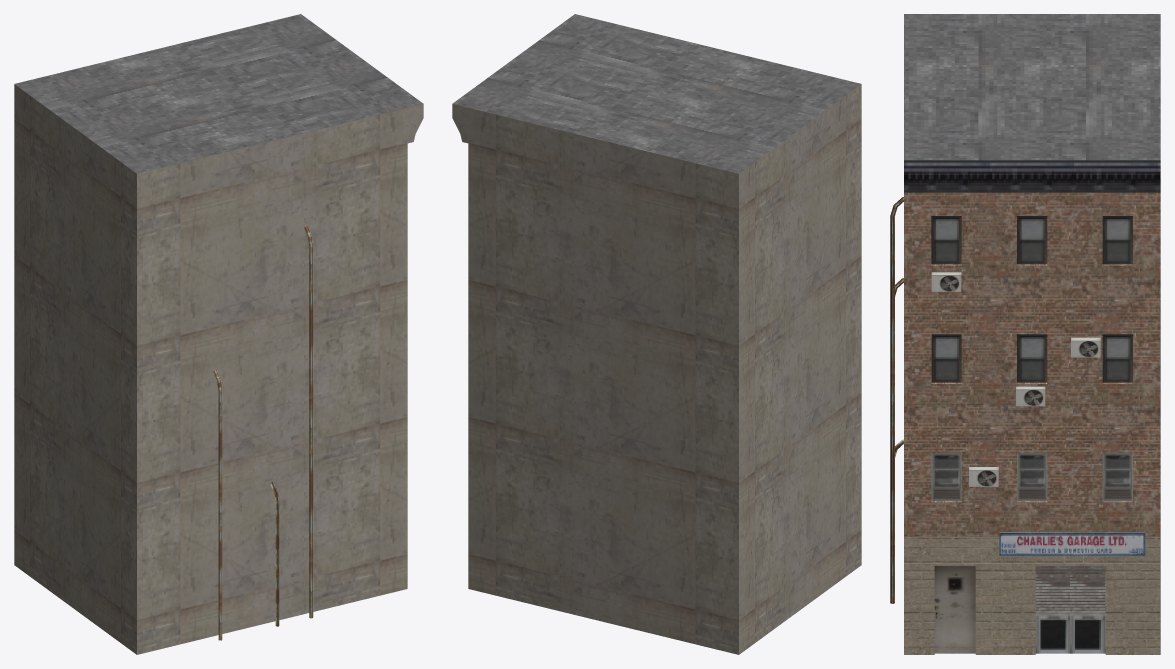
The model's file is psx_apartment.glb.
The picture shows the model from 3 angles, left to right: view 1: azimuth 30°, elevation 25°; view 2: azimuth 150°, elevation 25°; view 3: azimuth 270°, elevation 25°; orthographic projection. The views are drawn at different scales.
Visible parts, largest first — view 1: PSX Apartment; view 2: PSX Apartment; view 3: PSX Apartment.
Part boxes in pixels (box(x1,y1,x2,y2)): PSX Apartment: box(14, 14, 423, 654); PSX Apartment: box(452, 14, 861, 654); PSX Apartment: box(890, 14, 1160, 654).
Size of the model in its own units: 5.3 by 8.5 by 4.14.
Materials: 12 (12 with a texture image).
